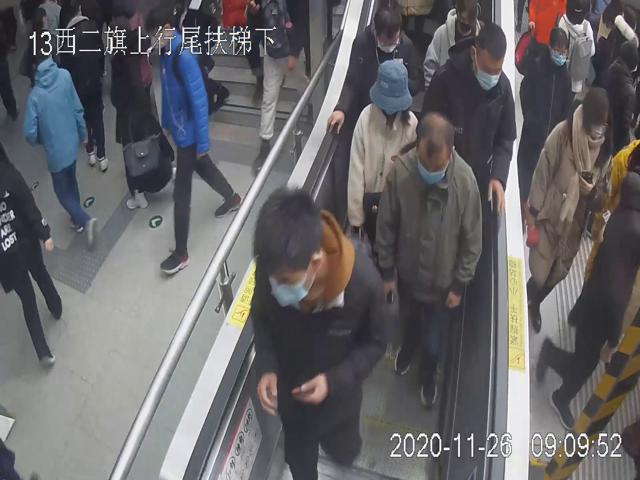person: (250, 184, 388, 480), (376, 115, 483, 409), (524, 84, 614, 332), (422, 20, 516, 228), (22, 38, 100, 253), (325, 0, 423, 136), (347, 60, 421, 240)
